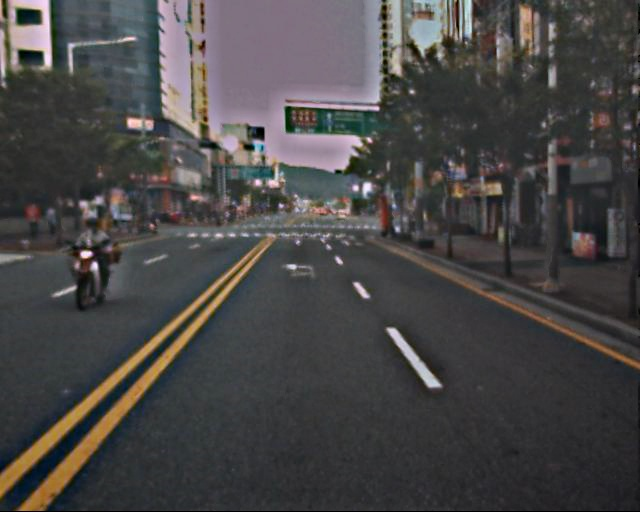person: (83, 202, 129, 289), (24, 197, 56, 243), (46, 197, 72, 239)
